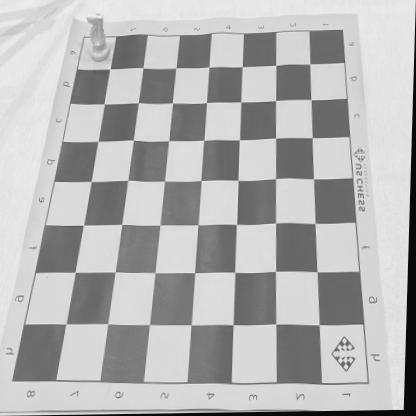white-knight: (85, 12, 112, 64)
